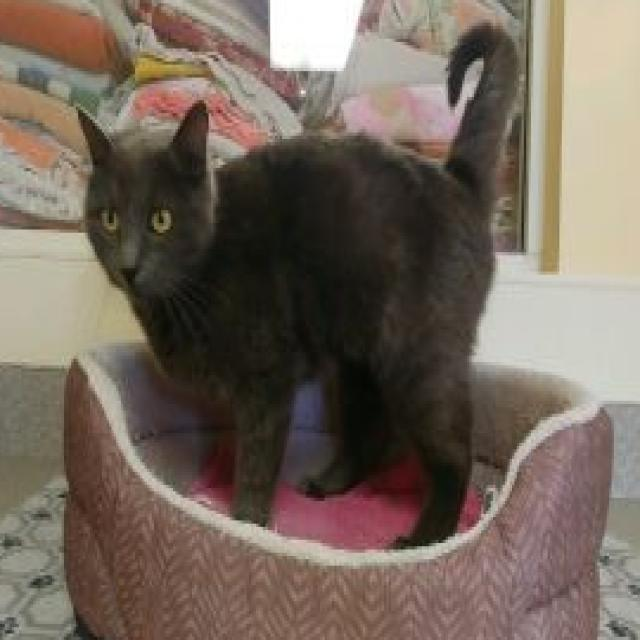Russian Blue: (76, 19, 521, 553)
